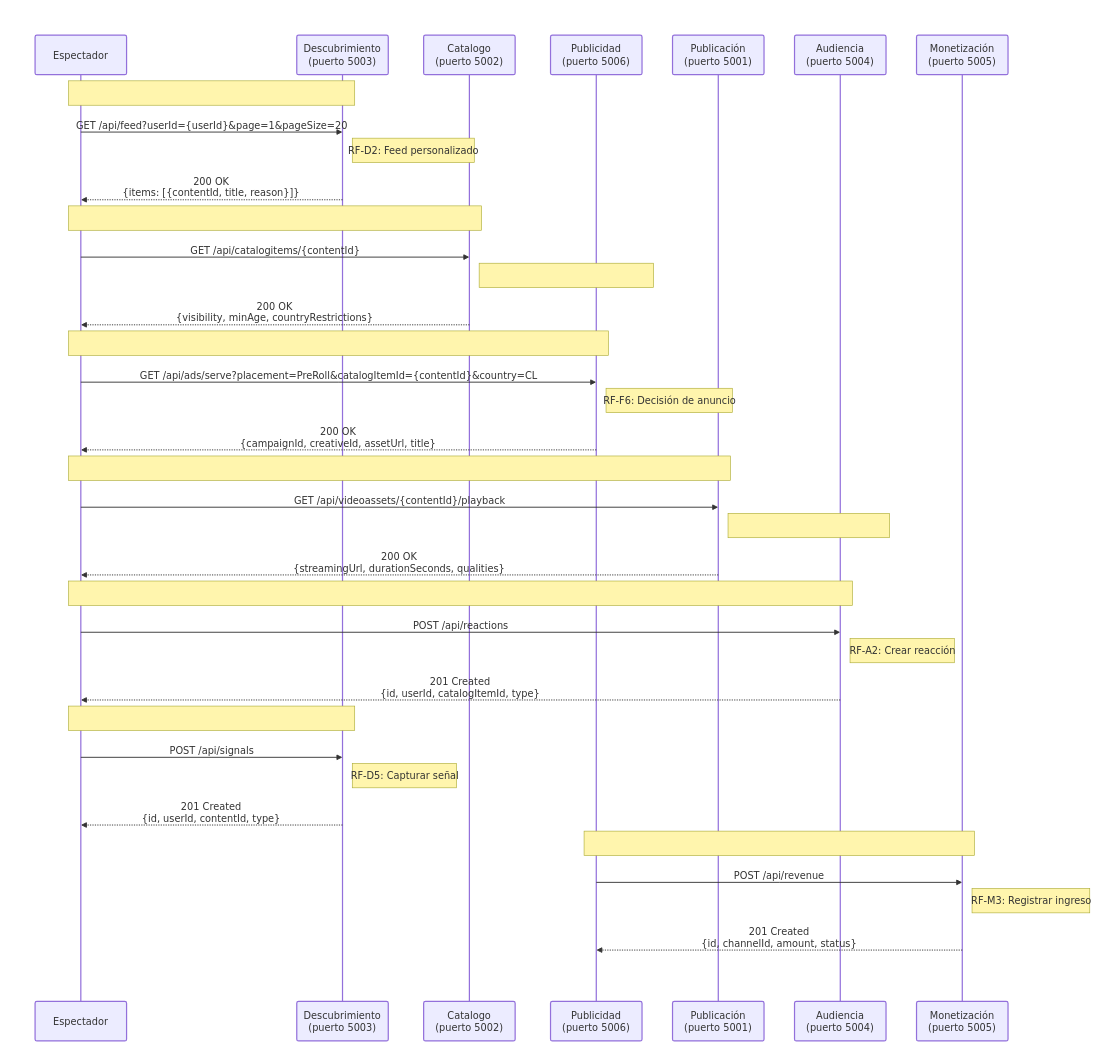
This 1101x1052 diagram has some shape labels left out. Each missing label, with the centre of its shape:
1. Obtener video recomendado: pixel 211 92
2. Validar visibilidad del video: pixel 275 217
3. Seleccionar anuncio: pixel 338 342
4. Obtener URLs de streaming: pixel 399 467
5. Registrar "like": pixel 460 592
6. Registrar señal de engagement: pixel 211 717
7. Procesar ingreso publicitario (ASÍNCRONO): pixel 778 843
RF-C3: Obtener metadata + visibilidad: pixel 566 275
RF-P3: Información de reproducción: pixel 808 525
